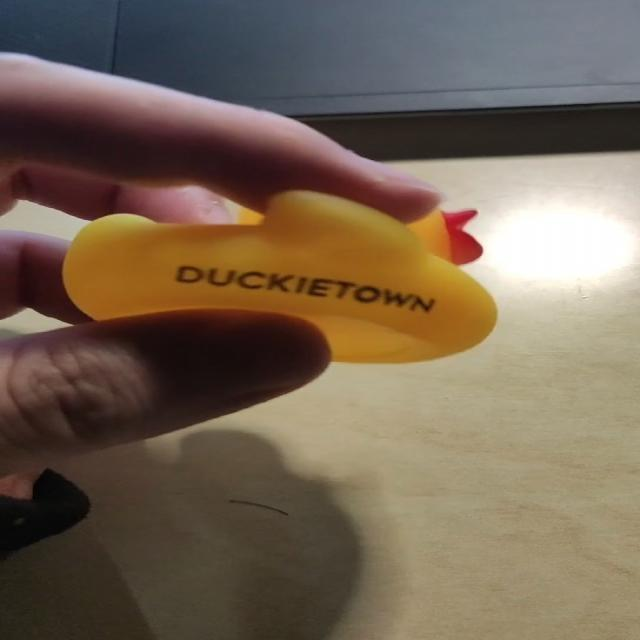rubber-duck: (62, 190, 495, 360)
